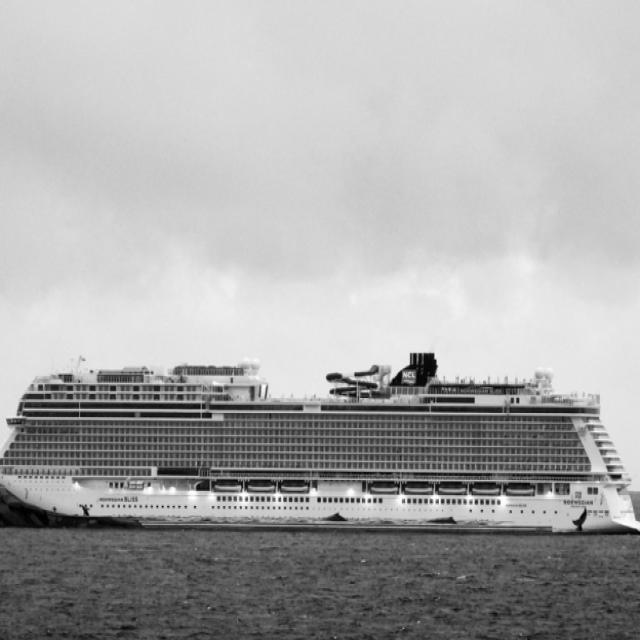cruises: (1, 348, 640, 547)
